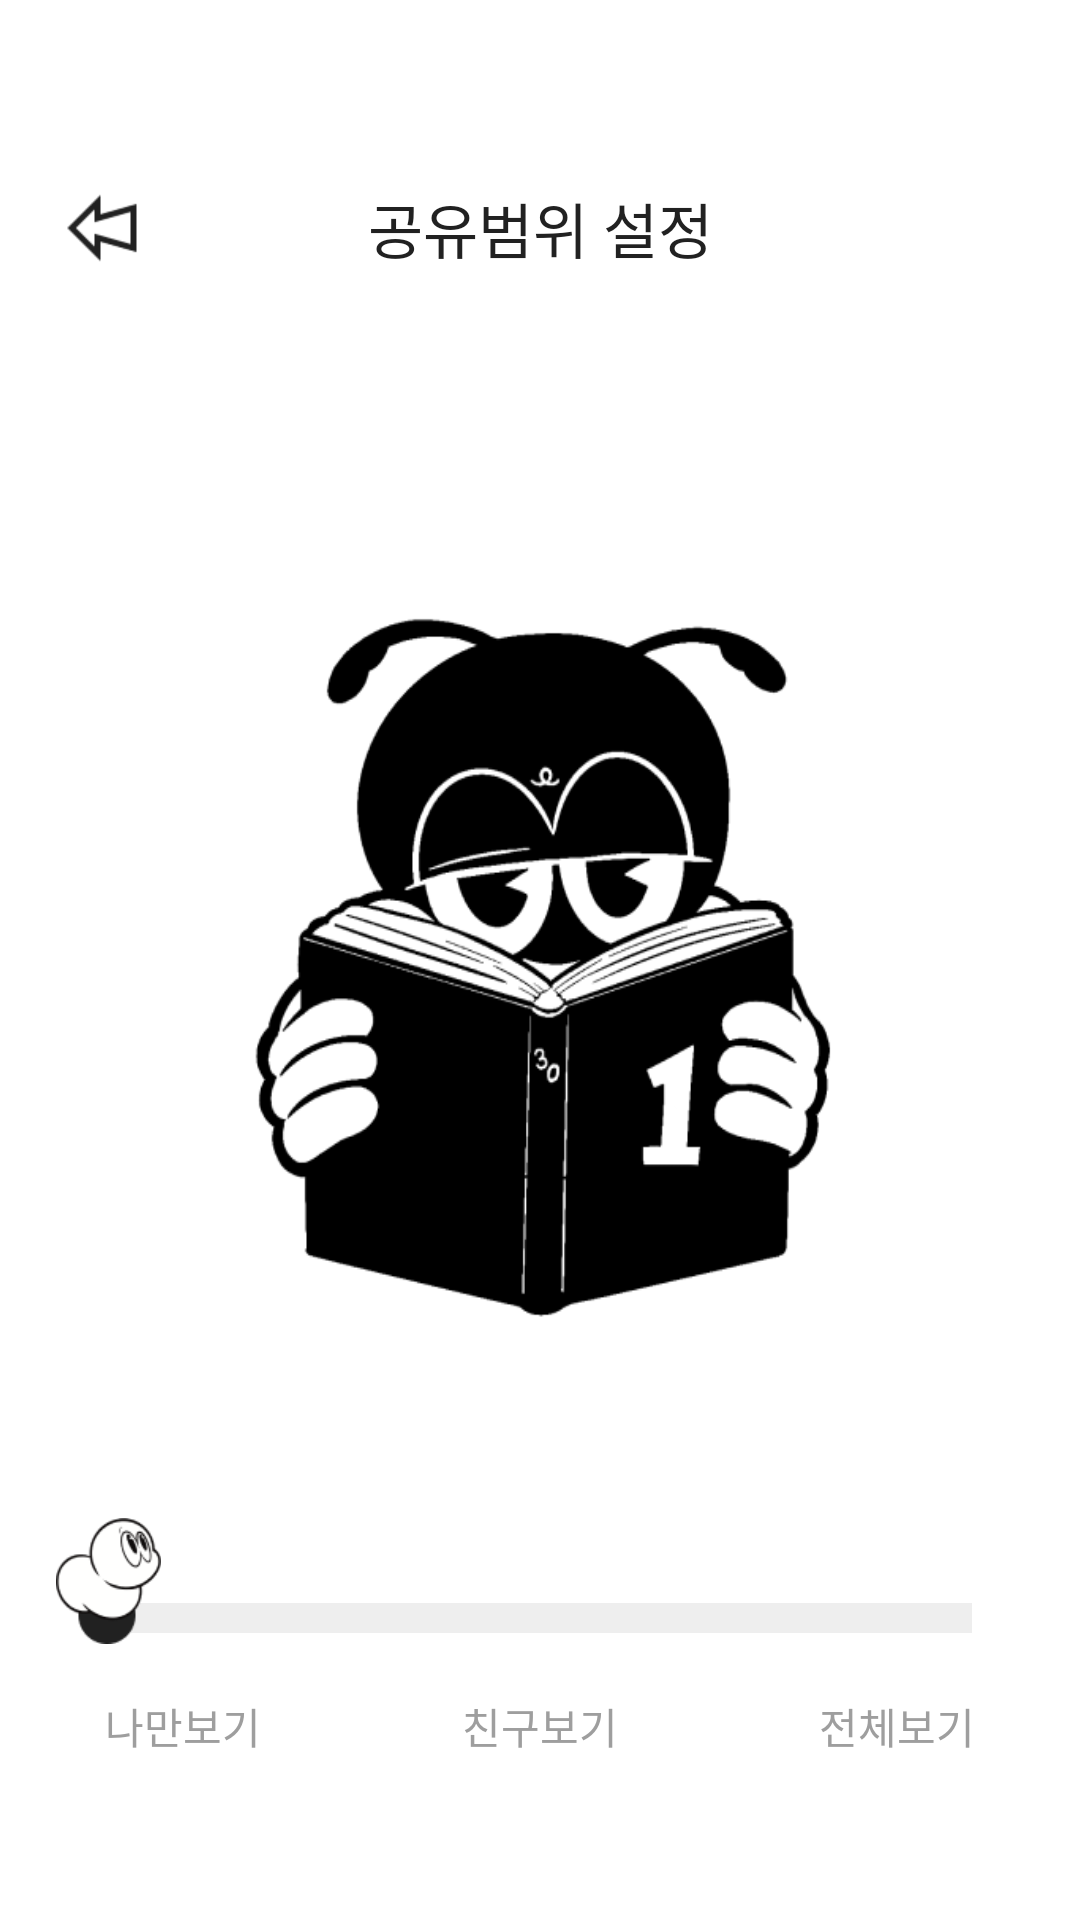

Where icons sit on this 1080*1920 app screen, as box(x1, y1, x2, y2):
arrow left: box(67, 195, 137, 261)
